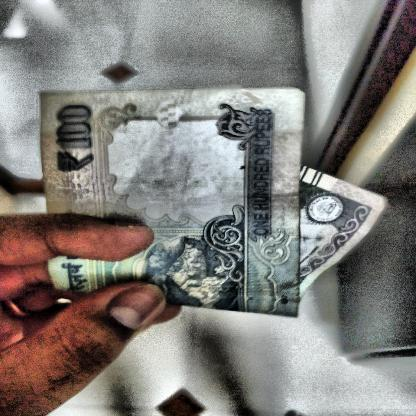Rs100: (53, 101, 95, 175)
